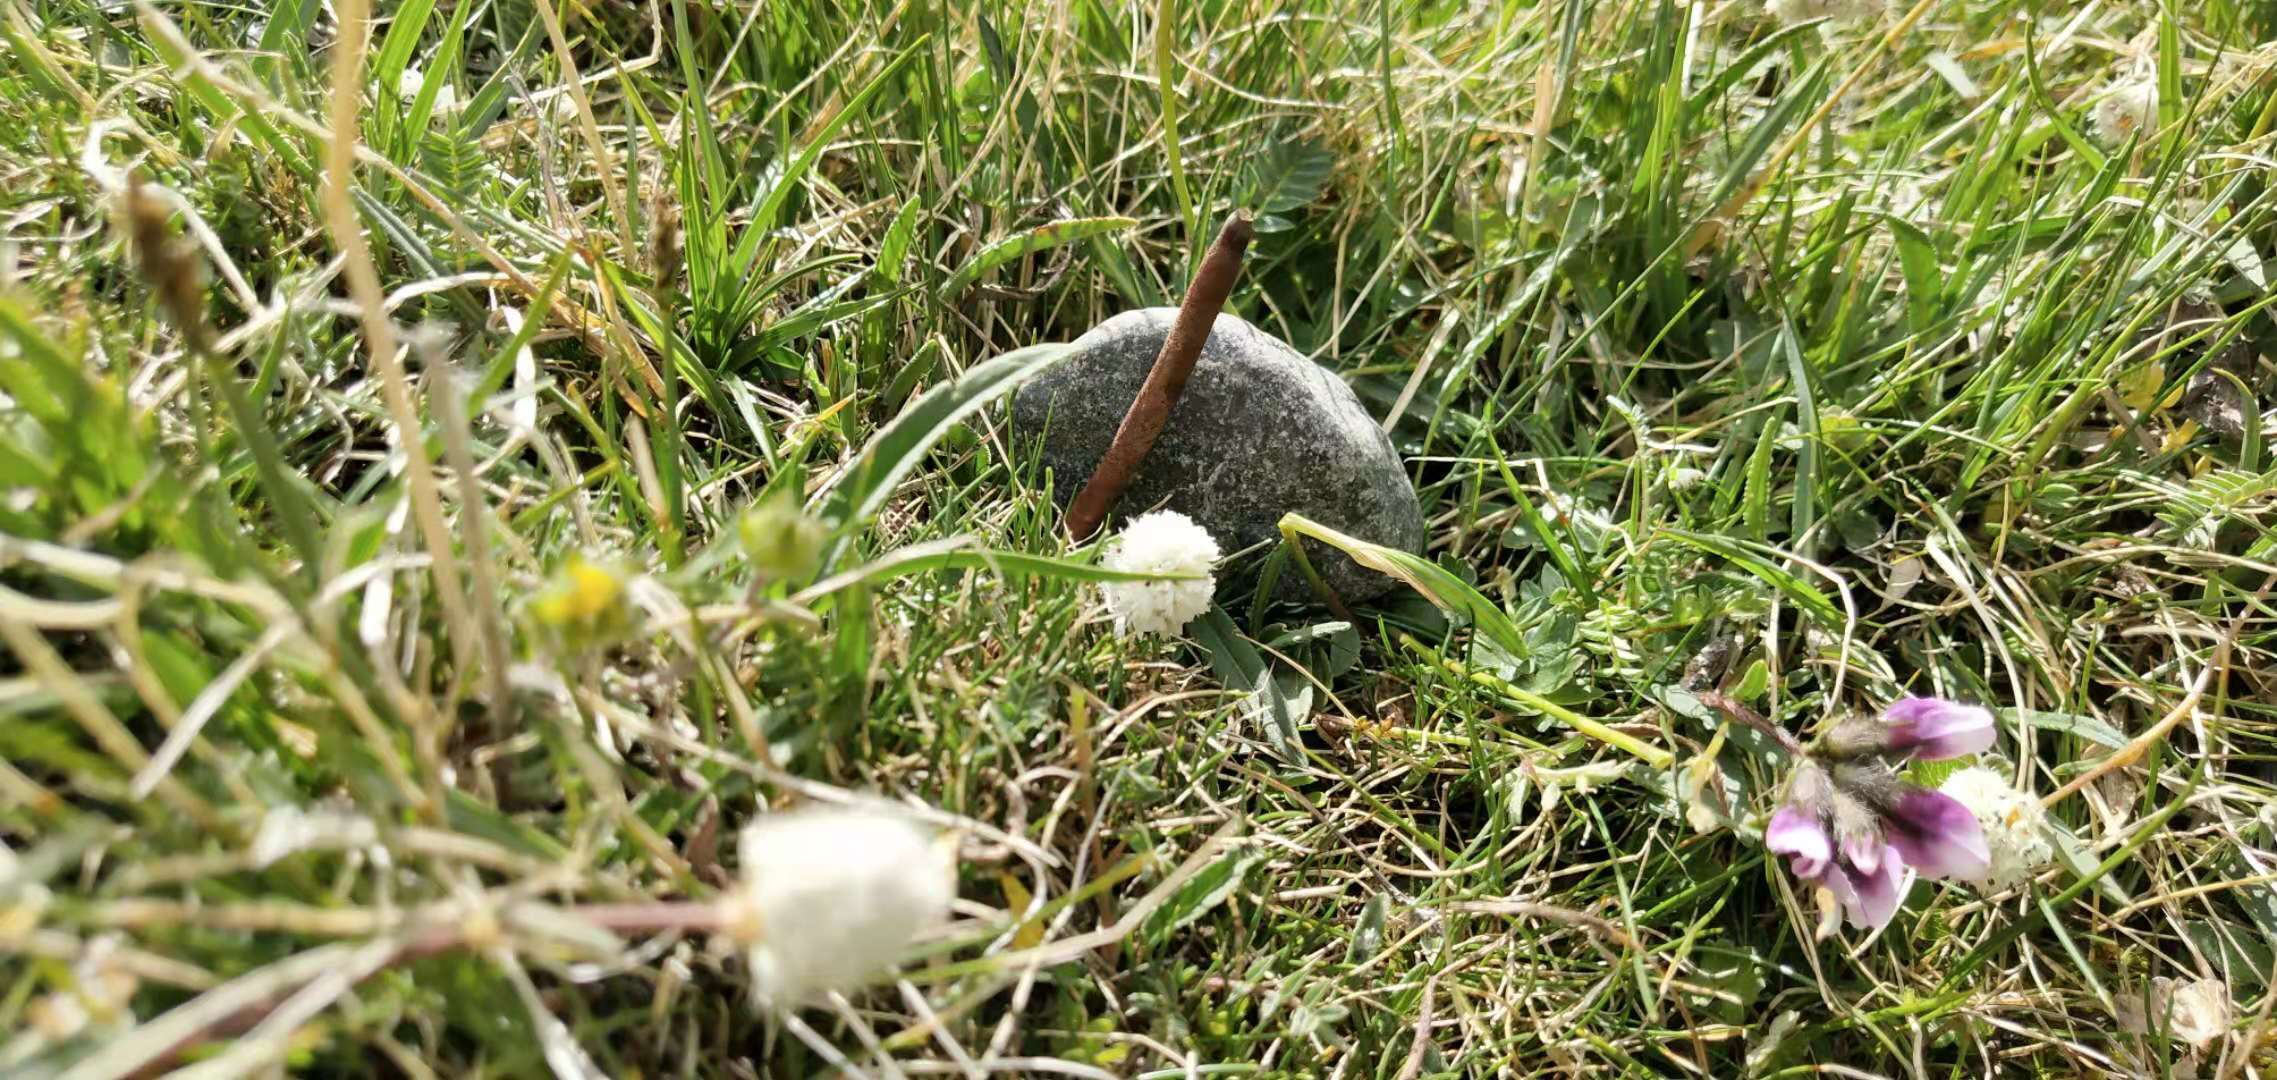w: (1066, 205, 1256, 536)
